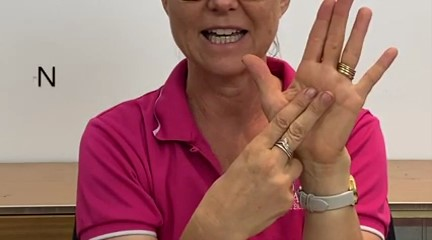N: (220, 2, 407, 236)
